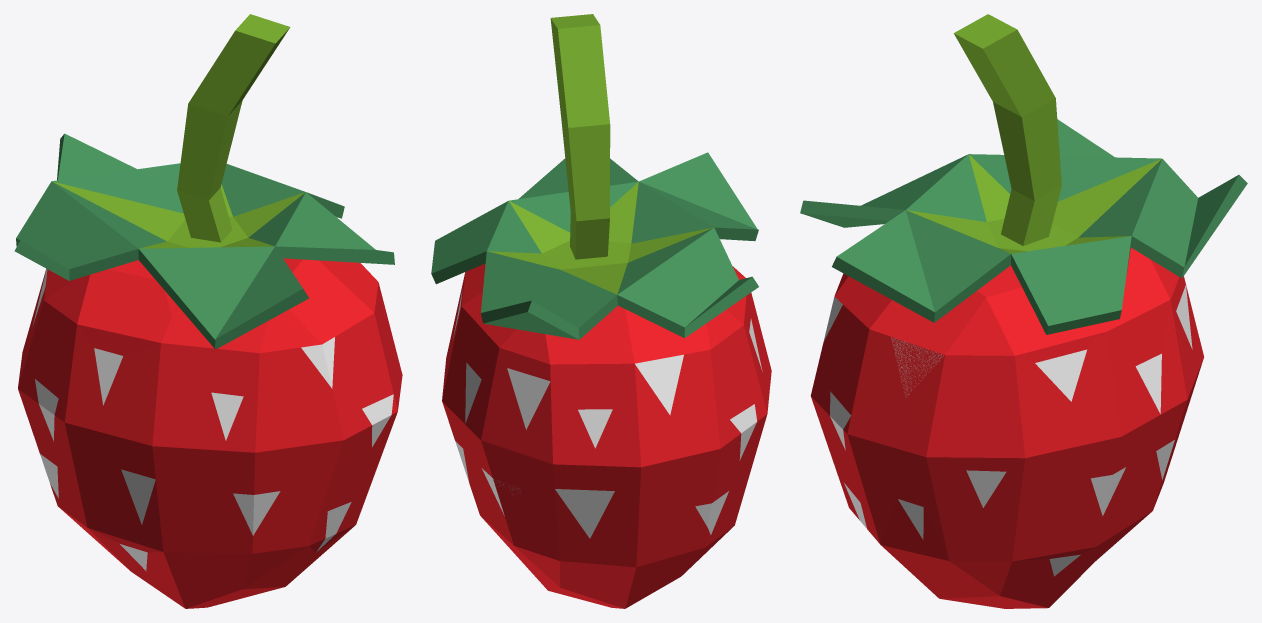
The model's file is strawberry.fbx.
3 renders of one model, left to right at view 1: azimuth 30°, elevation 25°; view 2: azimuth 150°, elevation 25°; view 3: azimuth 270°, elevation 25°, orthographic. The views are drawn at different scales.
Visible parts, largest first — view 1: Sphere.013; view 2: Sphere.013; view 3: Sphere.013.
Boxes of the visible parts, box(x1,y1,x2,y2) form: Sphere.013: box(14, 14, 402, 608); Sphere.013: box(431, 14, 771, 608); Sphere.013: box(800, 14, 1247, 608).
Size of the model in its own units: 121 by 204 by 137.
